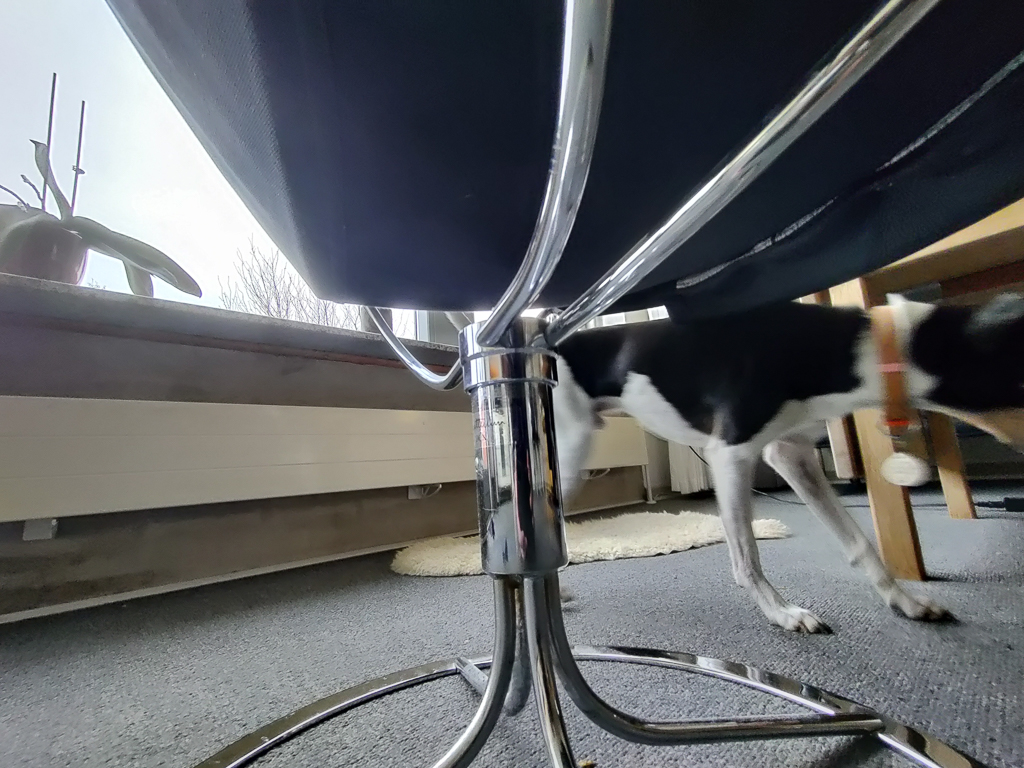Dog: (437, 273, 1024, 645)
